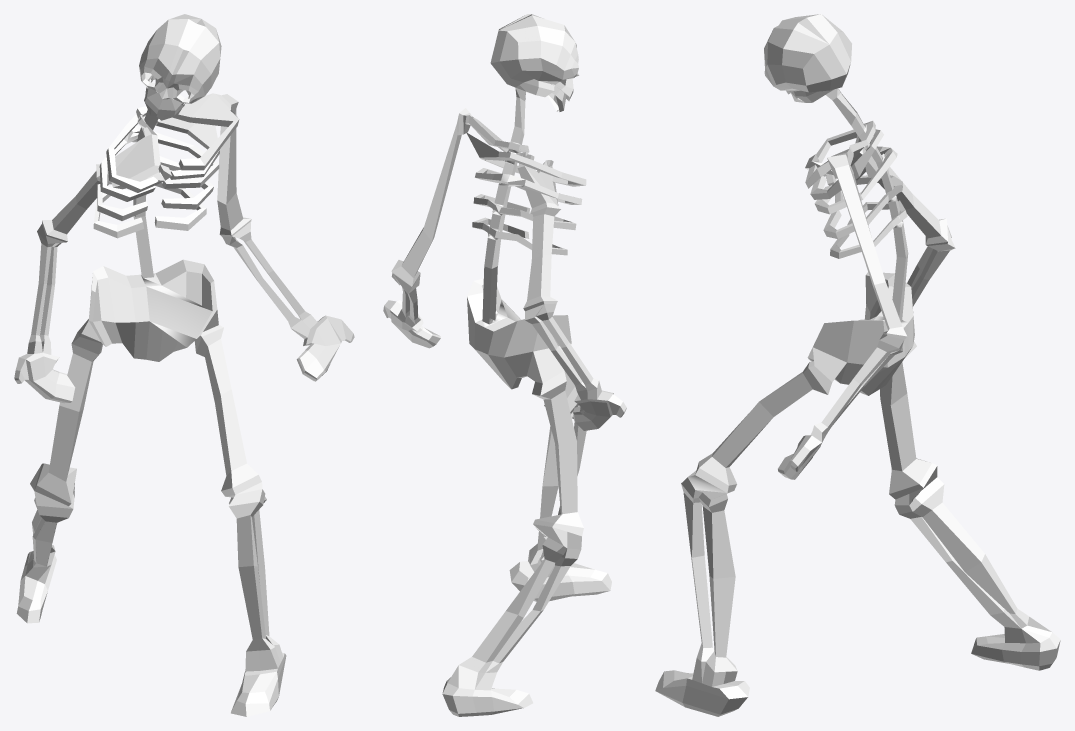
File: SkeletonIdle(52).obj
3 views of the same model, side by side, from view 1: azimuth 30°, elevation 25°; view 2: azimuth 150°, elevation 25°; view 3: azimuth 270°, elevation 25° (orthographic). The views are drawn at different scales.
Parts seen in each view (by area): view 1: Object002; view 2: Object002; view 3: Object002.
Part boxes in pixels (x1,y1,x2,y2): Object002: (14, 14, 354, 716); Object002: (383, 14, 626, 716); Object002: (655, 14, 1060, 716).
Size of the model in its own units: 534 by 1118 by 609.
